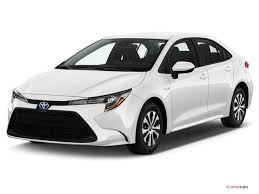Toyota: (8, 35, 245, 144)
